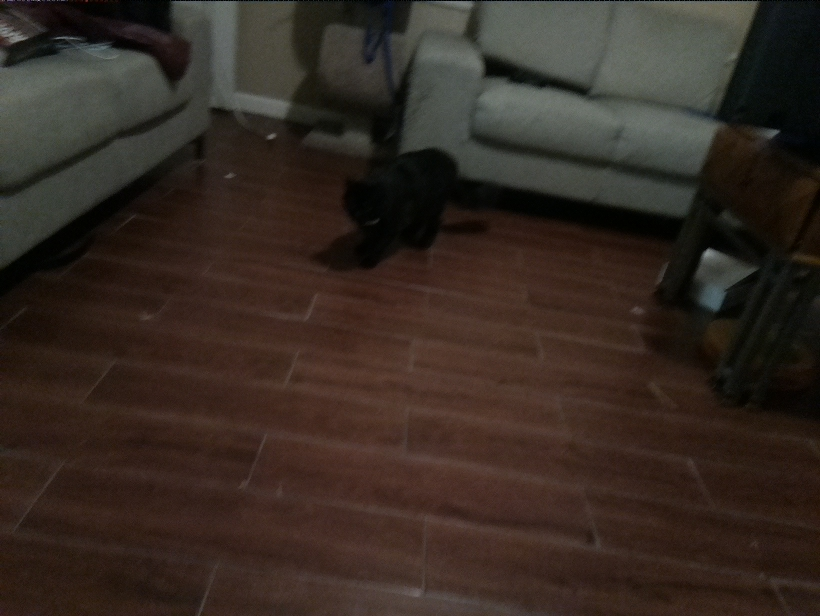cat: (330, 125, 499, 262)
